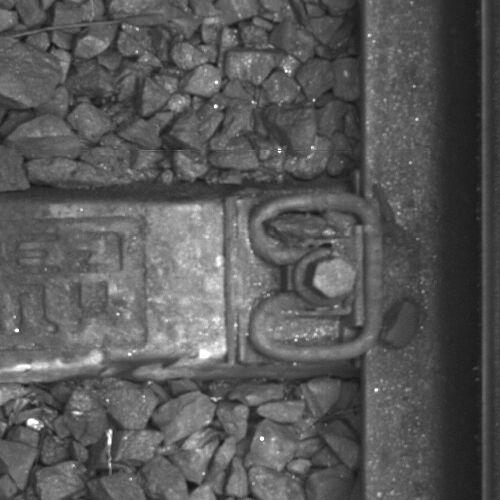jbr_nut: (282, 235, 354, 319)
spring: (246, 189, 379, 362)
tie_concr: (1, 199, 354, 364)
